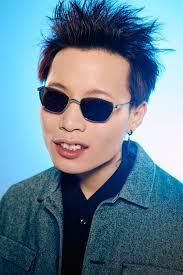sunglasses: (33, 83, 125, 125)
